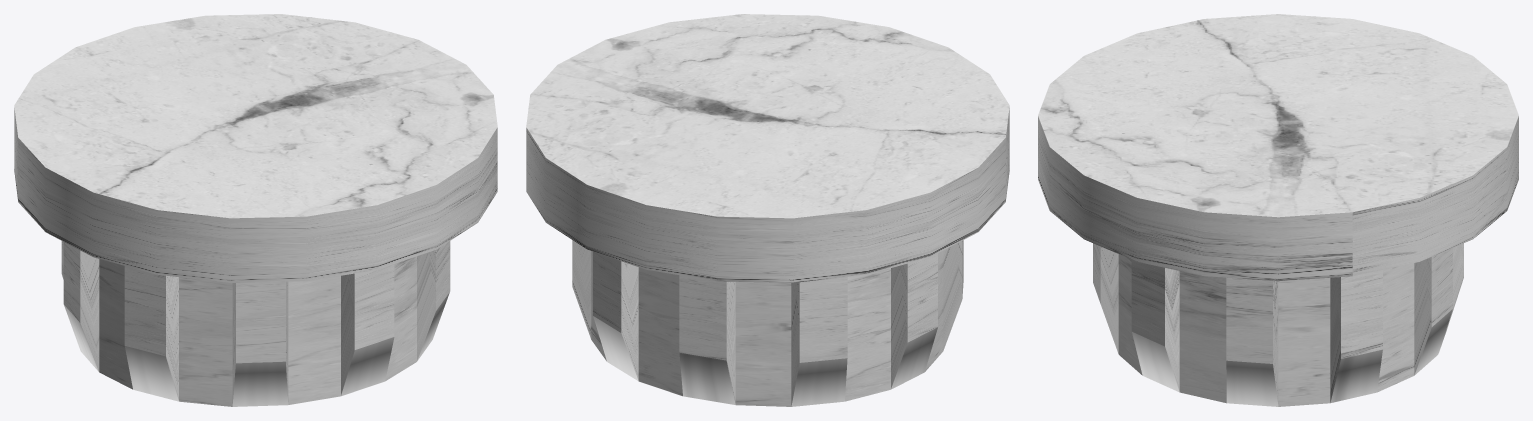
File: podium.fbx
3 views of the same model, side by side, from view 1: azimuth 30°, elevation 25°; view 2: azimuth 150°, elevation 25°; view 3: azimuth 270°, elevation 25° (orthographic).
Visible parts, largest first — view 1: pCylinder2, pCylinder1; view 2: pCylinder2, pCylinder1; view 3: pCylinder2, pCylinder1.
Part boxes in pixels (<box>): pCylinder2: <box>14,14,497,282</box>; pCylinder1: <box>61,241,450,406</box>; pCylinder2: <box>526,14,1009,282</box>; pCylinder1: <box>572,240,963,406</box>; pCylinder2: <box>1038,14,1518,281</box>; pCylinder1: <box>1093,243,1463,406</box>.
Size of the model in its own units: 2 by 0.9896 by 2.
